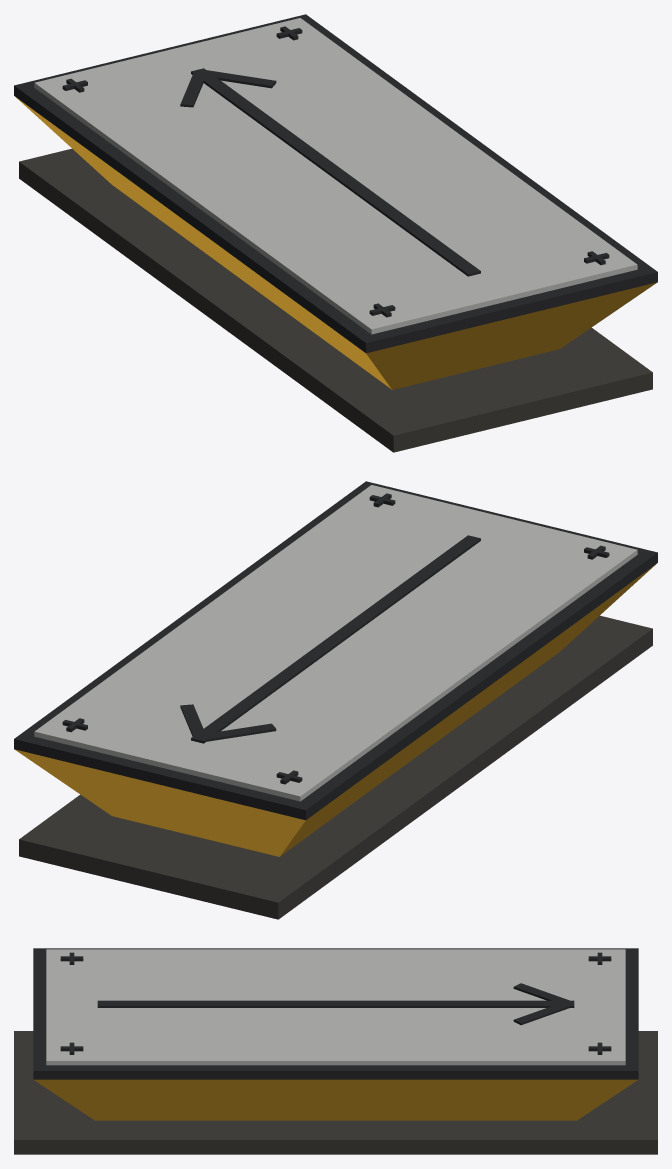
File: loader.glb
3 views of the same model, one above another, from view 1: azimuth 30°, elevation 25°; view 2: azimuth 150°, elevation 25°; view 3: azimuth 270°, elevation 25° (orthographic). The views are drawn at different scales.
Visible parts, largest first — view 1: body; view 2: body; view 3: body.
Boxes of the visible parts, bbox=[...] form: body: bbox=[14, 14, 657, 452]; body: bbox=[14, 481, 657, 919]; body: bbox=[14, 948, 657, 1154].
Size of the model in its own units: 0.9 by 0.335 by 2.
